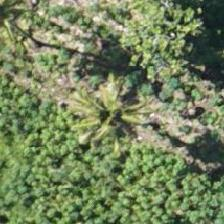coconut_tree: (63, 74, 153, 164)
